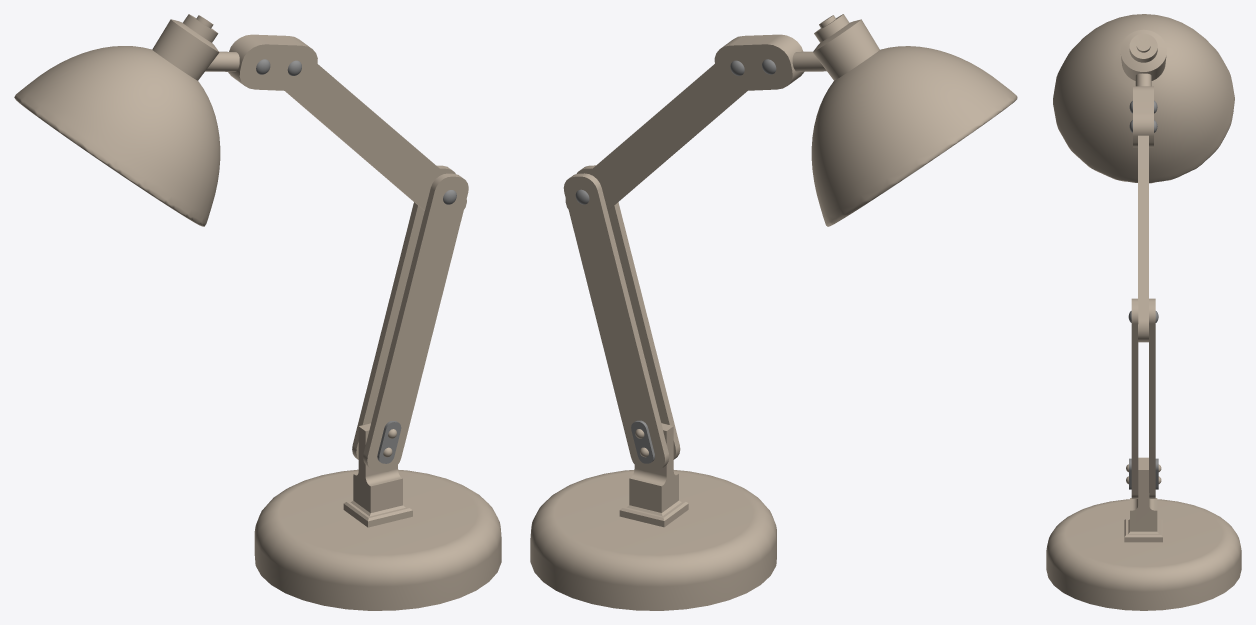
Rendered from LampeBureau1_3.fbx.
3 renders of one model, left to right at view 1: azimuth 30°, elevation 25°; view 2: azimuth 150°, elevation 25°; view 3: azimuth 270°, elevation 25°, orthographic. The views are drawn at different scales.
Visible parts, largest first — view 1: pCylinder739, pSphere113, pCube1980, pCube1993, pCube1994, pCube1978, pCube1964; view 2: pCylinder739, pSphere113, pCube1978, pCube1993, pCube1994, pCube1980, pCube1964; view 3: pSphere113, pCylinder739, pCube1993, pCube1964, pCube1980, pCube1978, pCube1994, pCylinder752.
Part boxes in pixels (x1,y1,x2,y2): pCylinder739: [254, 469, 501, 610]; pSphere113: [14, 19, 220, 226]; pCube1980: [363, 173, 468, 472]; pCube1993: [285, 64, 466, 210]; pCube1994: [228, 34, 317, 90]; pCube1978: [352, 165, 455, 459]; pCube1964: [343, 423, 412, 527]; pCylinder739: [530, 470, 776, 610]; pSphere113: [811, 19, 1017, 226]; pCube1978: [563, 173, 669, 471]; pCube1993: [565, 64, 747, 210]; pCube1994: [714, 34, 804, 90]; pCube1980: [576, 165, 680, 459]; pCube1964: [619, 423, 688, 527]; pSphere113: [1053, 14, 1234, 183]; pCylinder739: [1046, 499, 1241, 610]; pCube1993: [1138, 135, 1148, 342]; pCube1964: [1124, 457, 1162, 542]; pCube1980: [1131, 298, 1138, 498]; pCube1978: [1149, 298, 1155, 498]; pCube1994: [1133, 86, 1153, 147]; pCylinder752: [1129, 33, 1157, 62].
Size of the model in its own units: 23.54 by 29.28 by 11.16.
